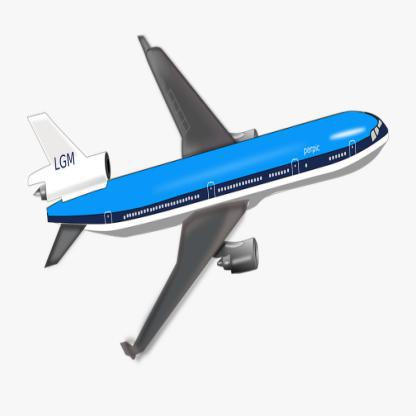CIV_Plane: (23, 32, 390, 364)
